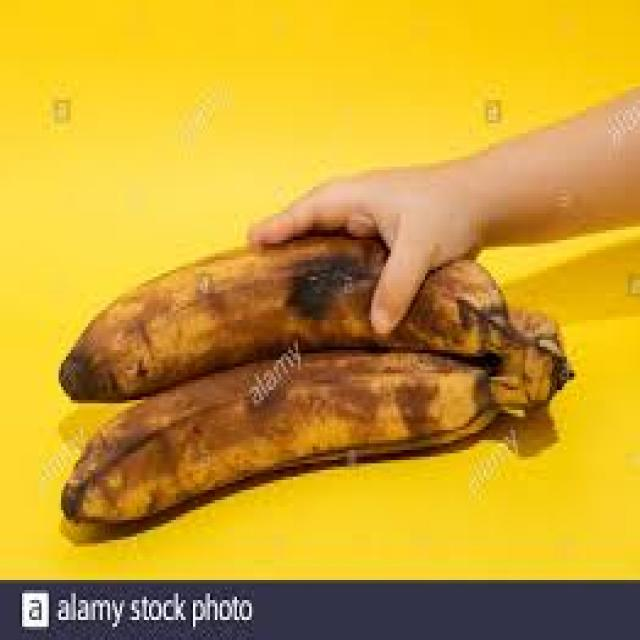organic waste: (59, 310, 564, 520), (59, 223, 520, 397)
